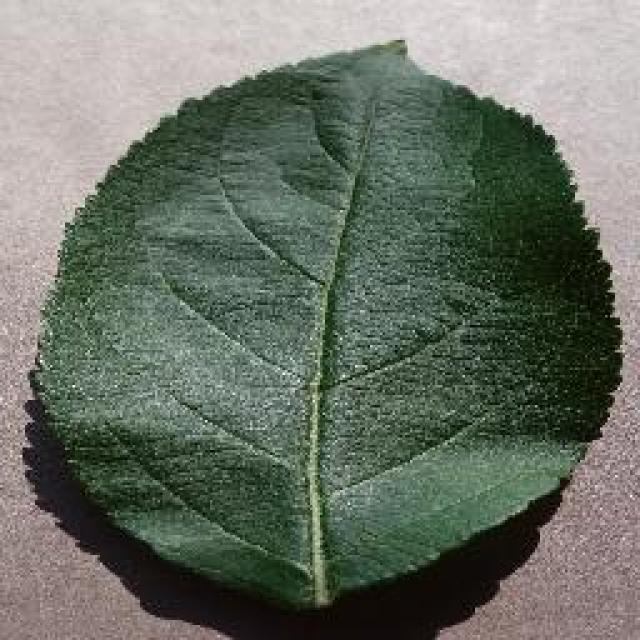apple healthy: (25, 35, 625, 613)
